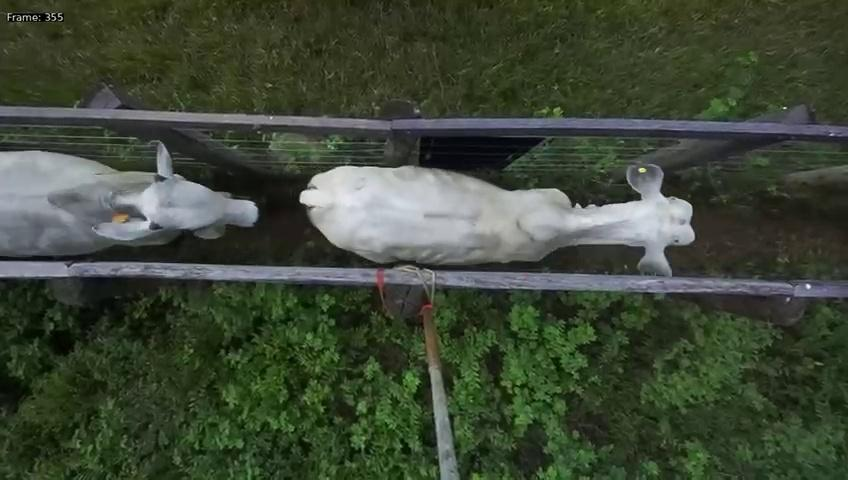cattle: (297, 133, 696, 276), (1, 134, 259, 260)
